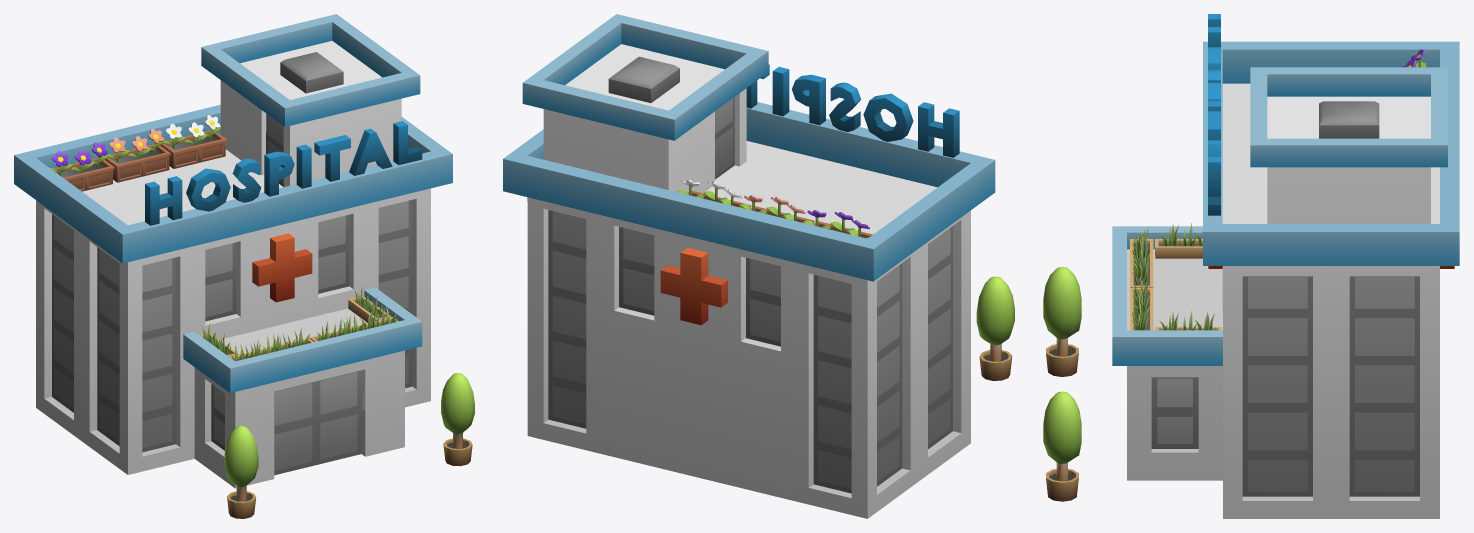
File: hospital_house.fbx
3 views of the same model, side by side, from view 1: azimuth 30°, elevation 25°; view 2: azimuth 150°, elevation 25°; view 3: azimuth 270°, elevation 25° (orthographic). The views are drawn at different scales.
Parts seen in each view (by area): view 1: hospital_house_001, hospital_flower_boxes_001, grass_hospital_001, hospital_potted_tree_1_001, hospital_potted_tree_2_001; view 2: hospital_house_001, hospital_potted_tree_1_001, hospital_flower_boxes_001; view 3: hospital_house_001, grass_hospital_001, hospital_potted_tree_1_001, hospital_potted_tree_2_001.
Boxes of the visible parts, x1,y1,x2,y2 form: hospital_house_001: [14, 14, 452, 488]; hospital_flower_boxes_001: [50, 115, 226, 191]; grass_hospital_001: [200, 285, 398, 361]; hospital_potted_tree_1_001: [224, 426, 258, 518]; hospital_potted_tree_2_001: [441, 373, 474, 466]; hospital_house_001: [503, 14, 995, 518]; hospital_potted_tree_1_001: [976, 276, 1014, 380]; hospital_flower_boxes_001: [676, 179, 872, 238]; hospital_house_001: [1112, 14, 1459, 518]; grass_hospital_001: [1130, 223, 1221, 330]; hospital_potted_tree_1_001: [1043, 267, 1081, 376]; hospital_potted_tree_2_001: [1043, 391, 1081, 501].
Bounding box in the file's own units: 931 × 854 × 861.
Materials: 1 (1 with a texture image).
